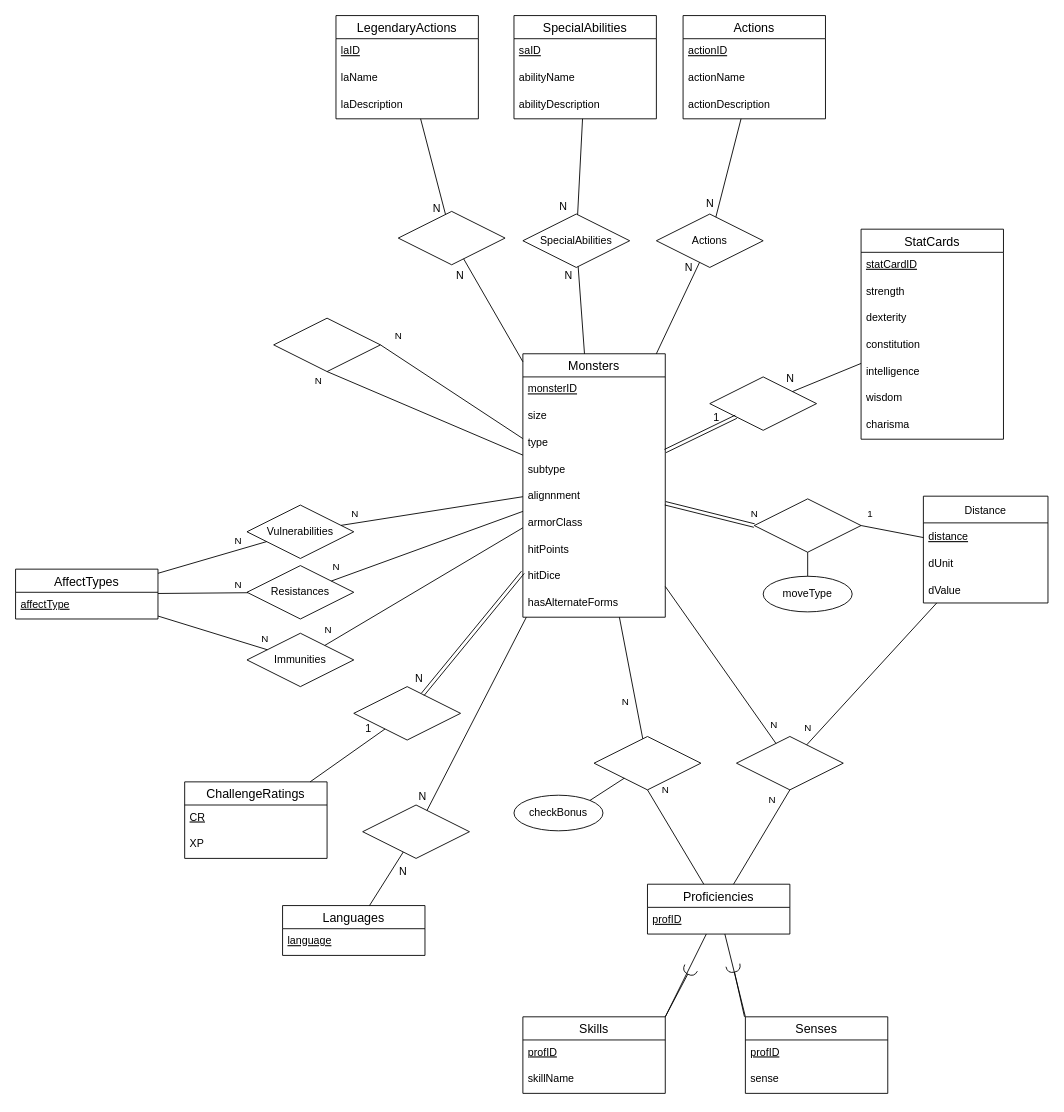
Image size: 1064x1112. Some labels were removed from this diagram. Each missing label, with the centre of its shape:
"Alternate Forms" belongs at point 326,344.
"Attributes" belongs at point 763,403.
"Has Challenge" belongs at point 407,713.
"Knows" belongs at point 415,831.
"Legenday Actions" belongs at point 451,237.
"Moves At Speed" belongs at point 807,525.
"Passive Senses" belongs at point 789,763.
"Skill Proficiency" belongs at point 647,763.
